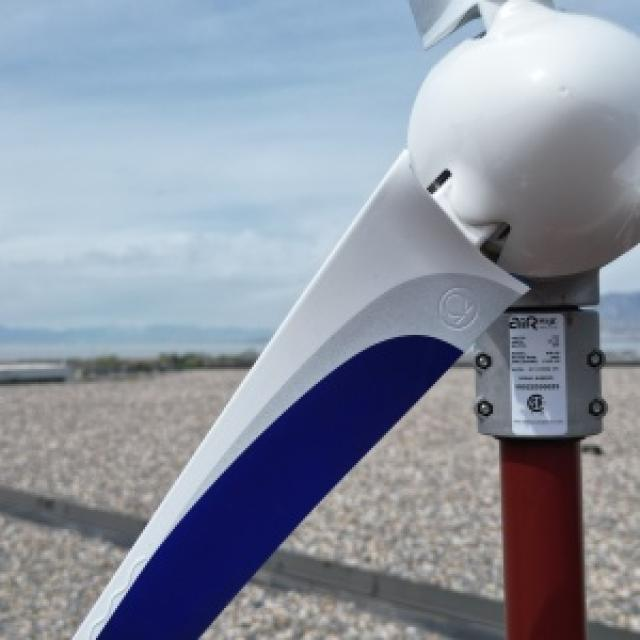healthy: (70, 0, 638, 638)
